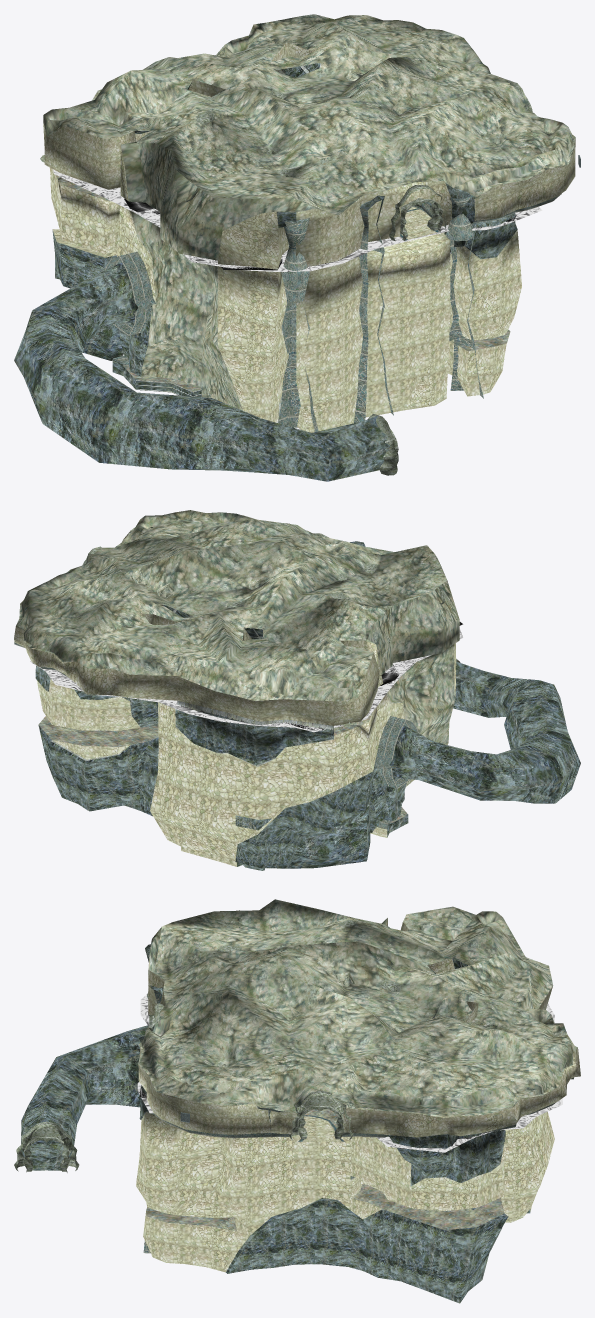
The picture shows the model from 3 angles, top to bottom: view 1: azimuth 30°, elevation 25°; view 2: azimuth 150°, elevation 25°; view 3: azimuth 270°, elevation 25°; orthographic projection. The views are drawn at different scales.
Visible parts, largest first — view 1: Shape 1, Shape 4, Shape 3, Shape 5, Shape 0, Shape 14, Shape 6, Shape 7; view 2: Shape 1, Shape 3, Shape 4, Shape 7, Shape 14, Shape 6, Shape 5, Shape 0; view 3: Shape 1, Shape 4, Shape 3, Shape 7, Shape 0, Shape 14, Shape 5.
Part boxes in pixels (x1,y1,x2,y2): Shape 1: (43, 14, 575, 410); Shape 4: (43, 42, 575, 432); Shape 3: (14, 183, 517, 481); Shape 5: (104, 193, 561, 431); Shape 0: (185, 80, 532, 475); Shape 14: (53, 169, 542, 271); Shape 6: (134, 63, 517, 415); Shape 7: (56, 175, 510, 391); Shape 1: (16, 510, 459, 786); Shape 3: (35, 541, 580, 870); Shape 4: (14, 530, 456, 866); Shape 7: (38, 712, 407, 823); Shape 14: (30, 629, 462, 732); Shape 6: (48, 604, 404, 802); Shape 5: (14, 642, 418, 829); Shape 0: (82, 533, 460, 662); Shape 1: (138, 899, 577, 1117); Shape 4: (136, 918, 580, 1272); Shape 3: (21, 944, 530, 1303); Shape 7: (146, 1109, 504, 1231); Shape 0: (14, 910, 403, 1172); Shape 14: (137, 994, 562, 1152); Shape 5: (143, 949, 573, 1253).
Bounding box in the file's own units: 5768 × 2801 × 5356.
